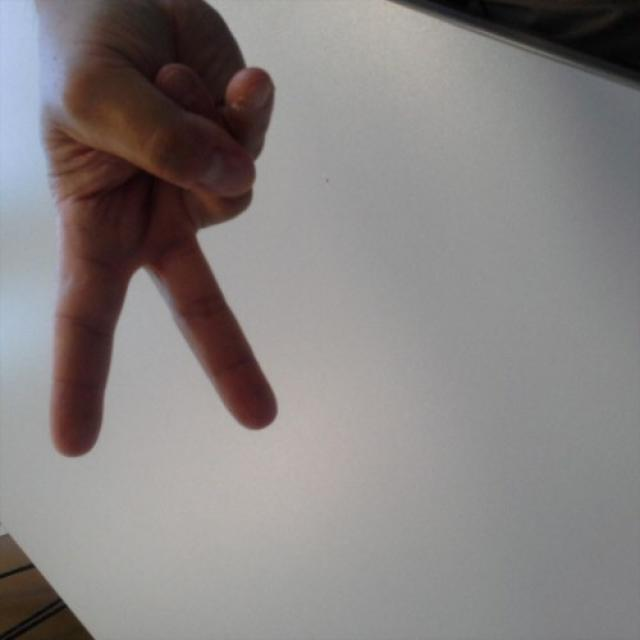scissors: (0, 0, 278, 460)
